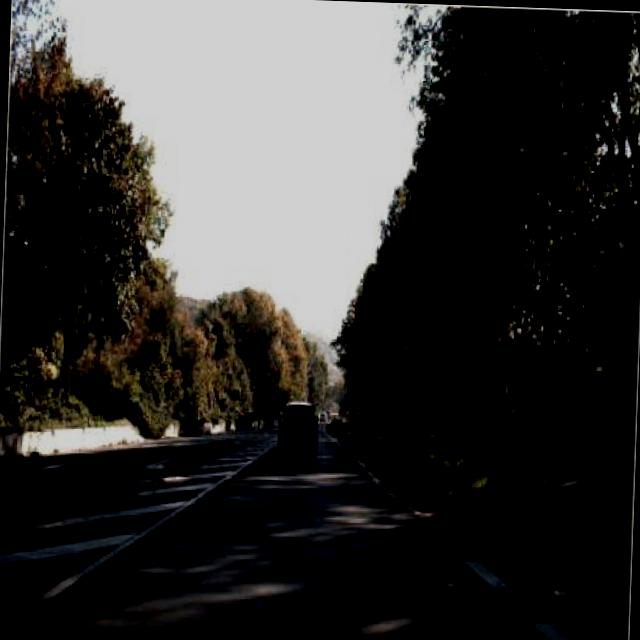Ograniczenie predkosci do 70: (394, 350, 414, 382)
